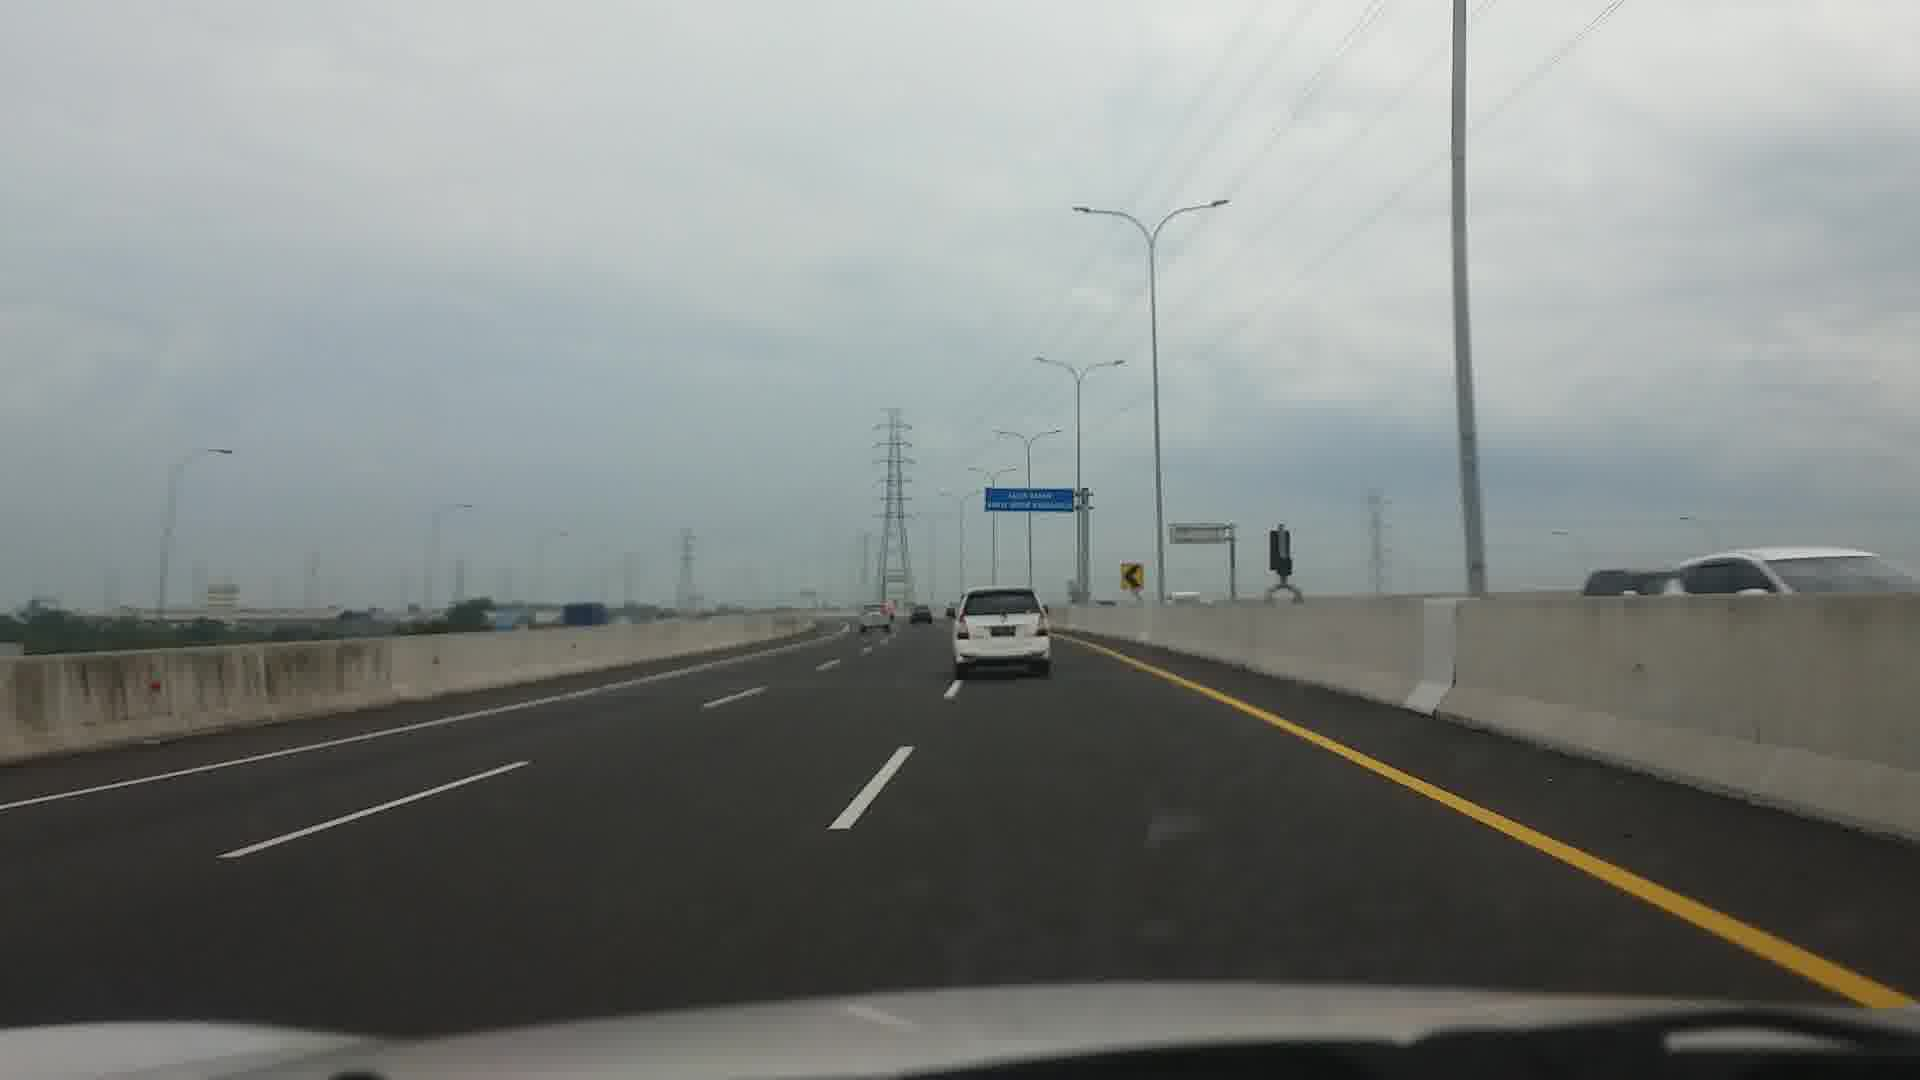plate_positive: (992, 626, 1015, 637)
